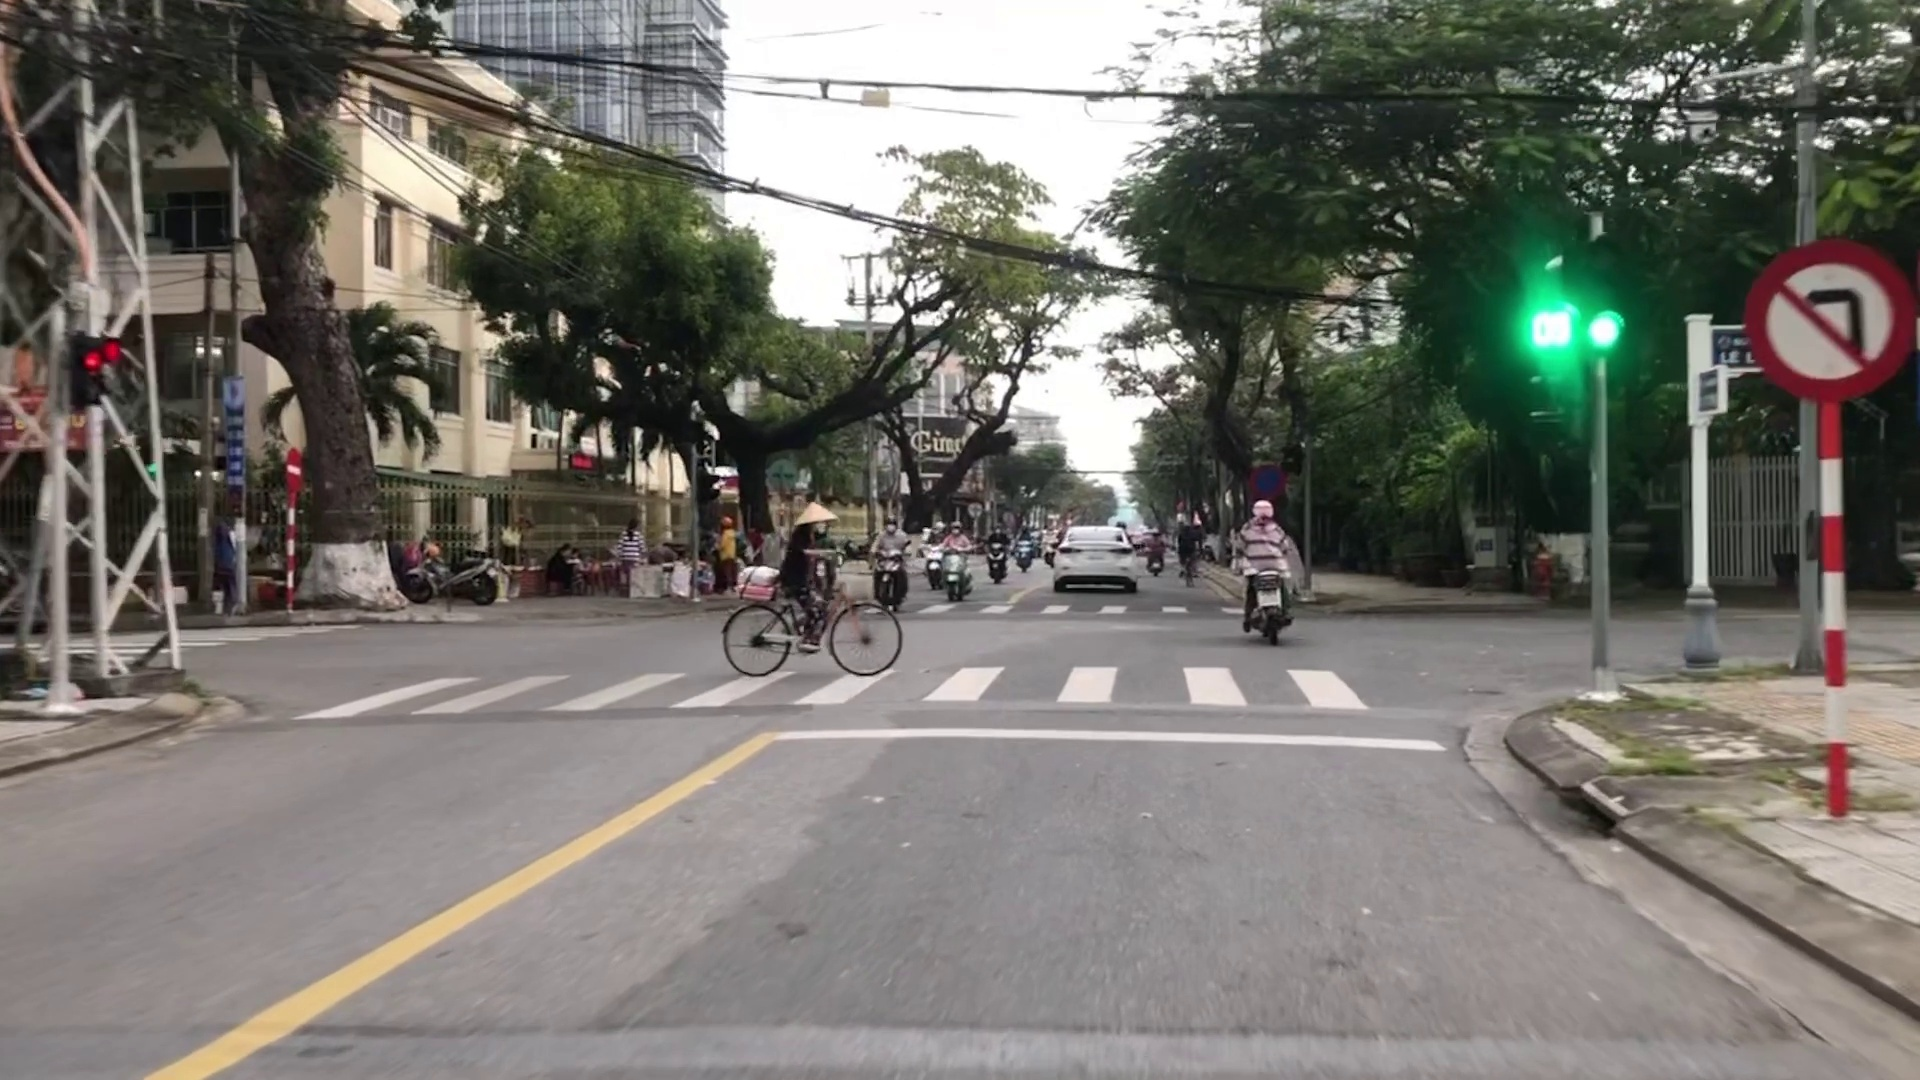Bien khac: (1742, 233, 1912, 405)
Cam do xe: (1249, 458, 1288, 500)
